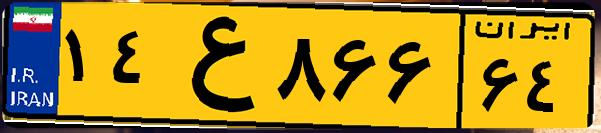1: (57, 26, 110, 100)
4: (525, 38, 570, 115), (110, 28, 158, 98)
6: (385, 28, 445, 110), (330, 28, 385, 110), (475, 38, 525, 113)
8: (270, 28, 330, 110)
ع: (158, 12, 270, 120)
